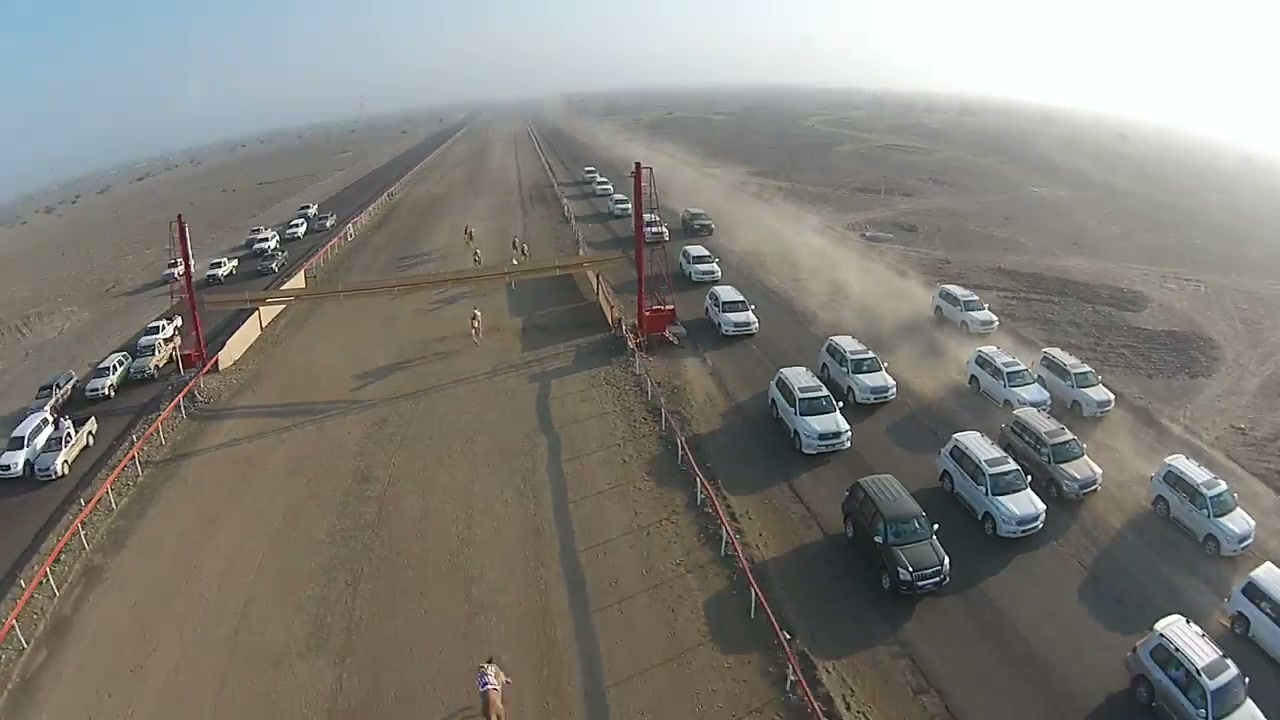animal_footprint: (576, 347, 833, 719)
